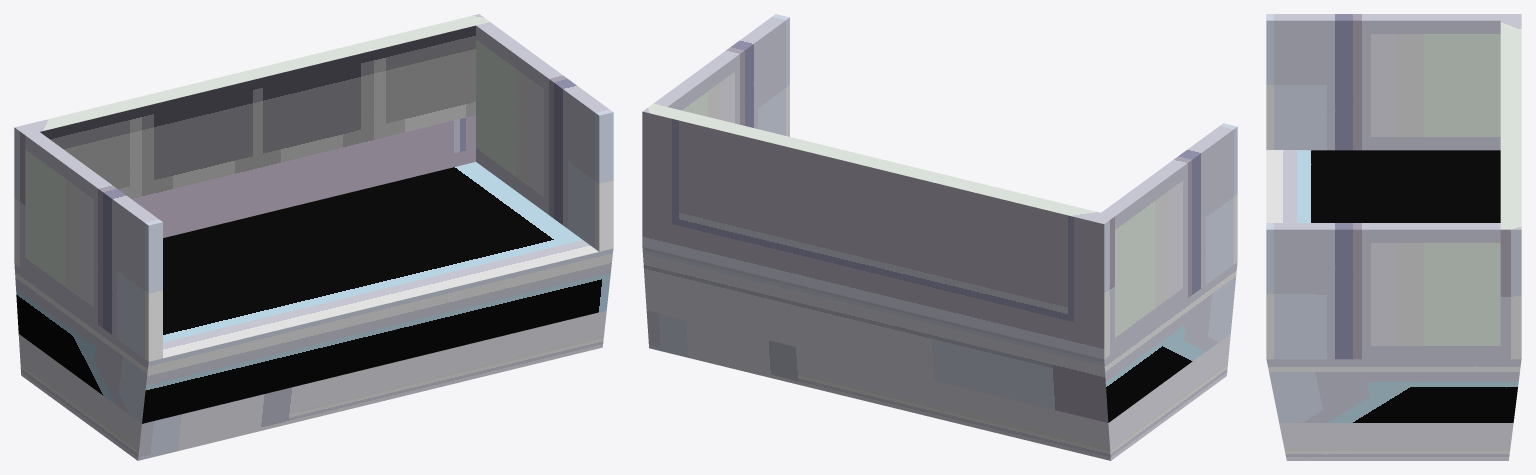
3 views of the same model, side by side, from view 1: azimuth 30°, elevation 25°; view 2: azimuth 150°, elevation 25°; view 3: azimuth 270°, elevation 25° (orthographic). The views are drawn at different scales.
Visible parts, largest first — view 1: 3872kg3case00; view 2: 3872kg3case00; view 3: 3872kg3case00.
Part boxes in pixels (left/top/right/bottom): 3872kg3case00: left=14, top=14, right=613, bottom=460; 3872kg3case00: left=642, top=14, right=1237, bottom=460; 3872kg3case00: left=1266, top=14, right=1521, bottom=460.
Size of the model in its own units: 2 by 1 by 1.
1 material, 1 textured.
